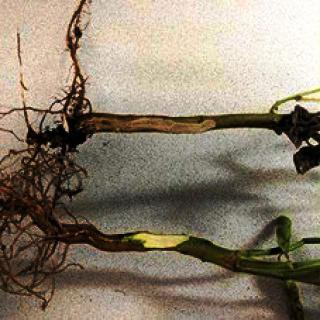wilt: (54, 104, 218, 156), (50, 208, 196, 262)
